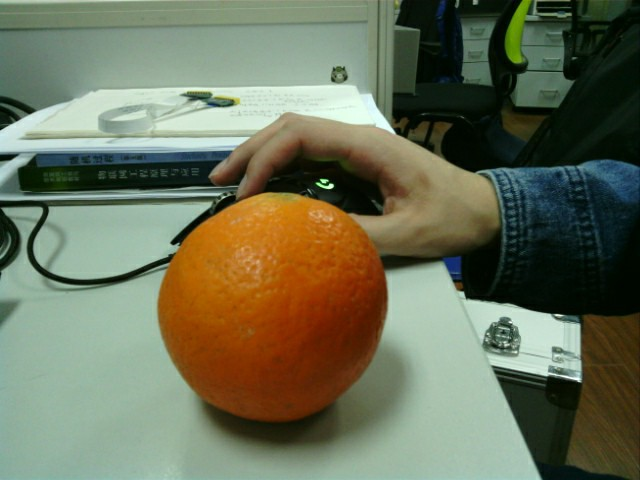normal_orange: (160, 193, 388, 420)
